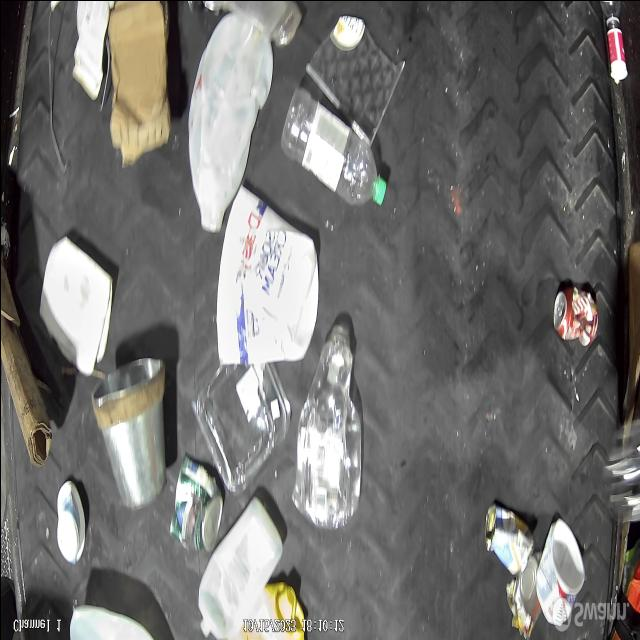can: (169, 452, 223, 553), (482, 501, 534, 577), (552, 282, 598, 348)
milk_jug: (187, 9, 274, 232), (197, 495, 284, 637)
non_white_jug: (241, 579, 305, 640)
plastic_bottle: (292, 322, 362, 526), (280, 84, 388, 206)
